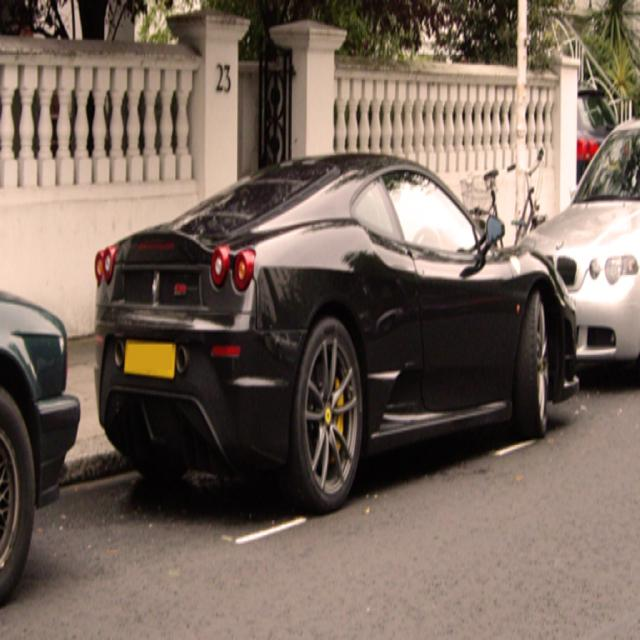car: (94, 145, 577, 520)
